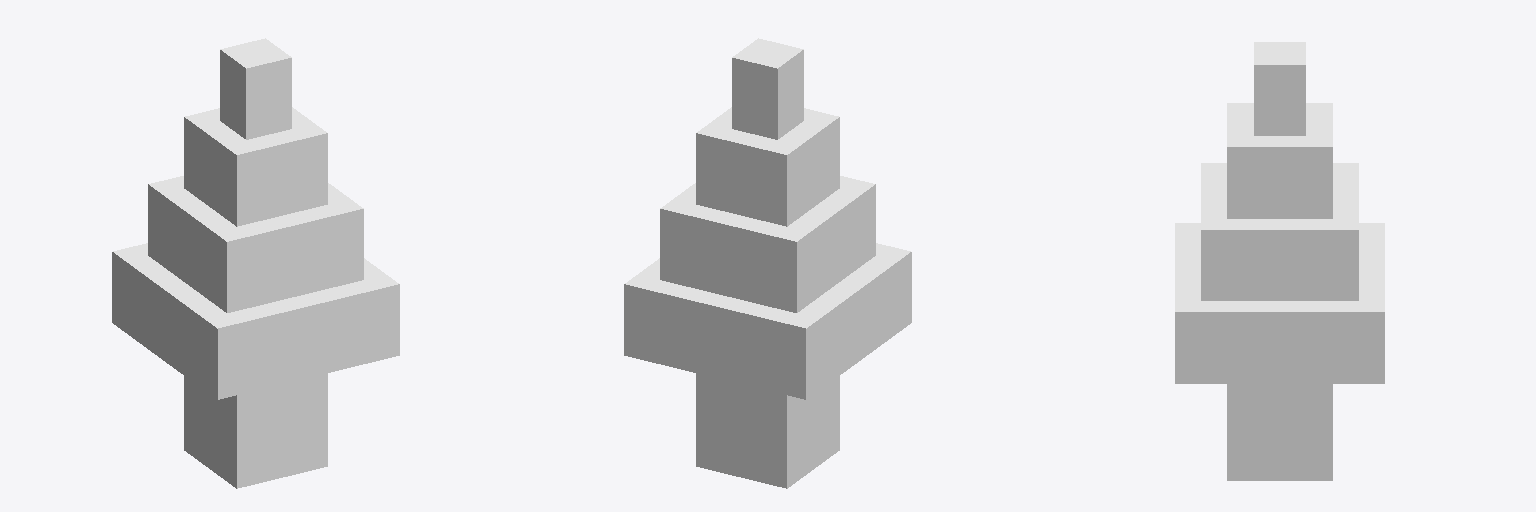
The model's file is treeOBJ.obj.
3 views of the same model, side by side, from view 1: azimuth 30°, elevation 25°; view 2: azimuth 150°, elevation 25°; view 3: azimuth 270°, elevation 25° (orthographic).
Size of the model in its own units: 8 by 17 by 8.